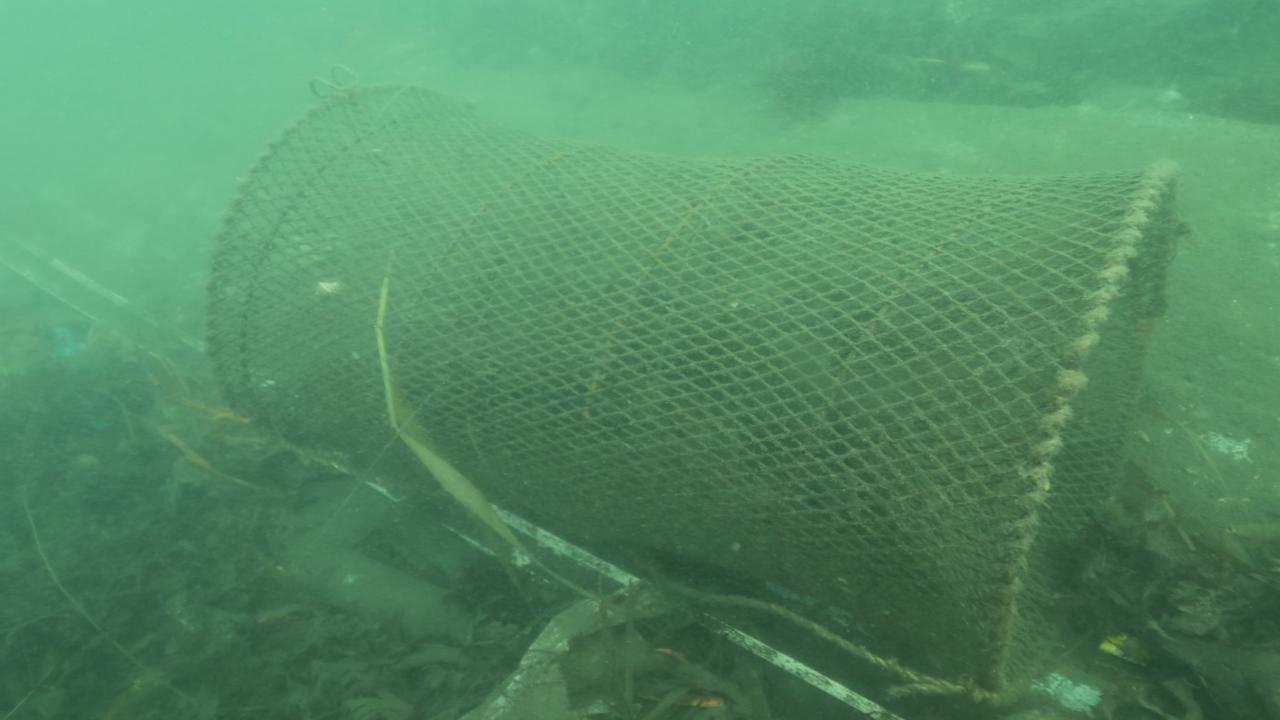rope: (22, 355, 149, 687)
spring fish trap: (197, 76, 1186, 702)
